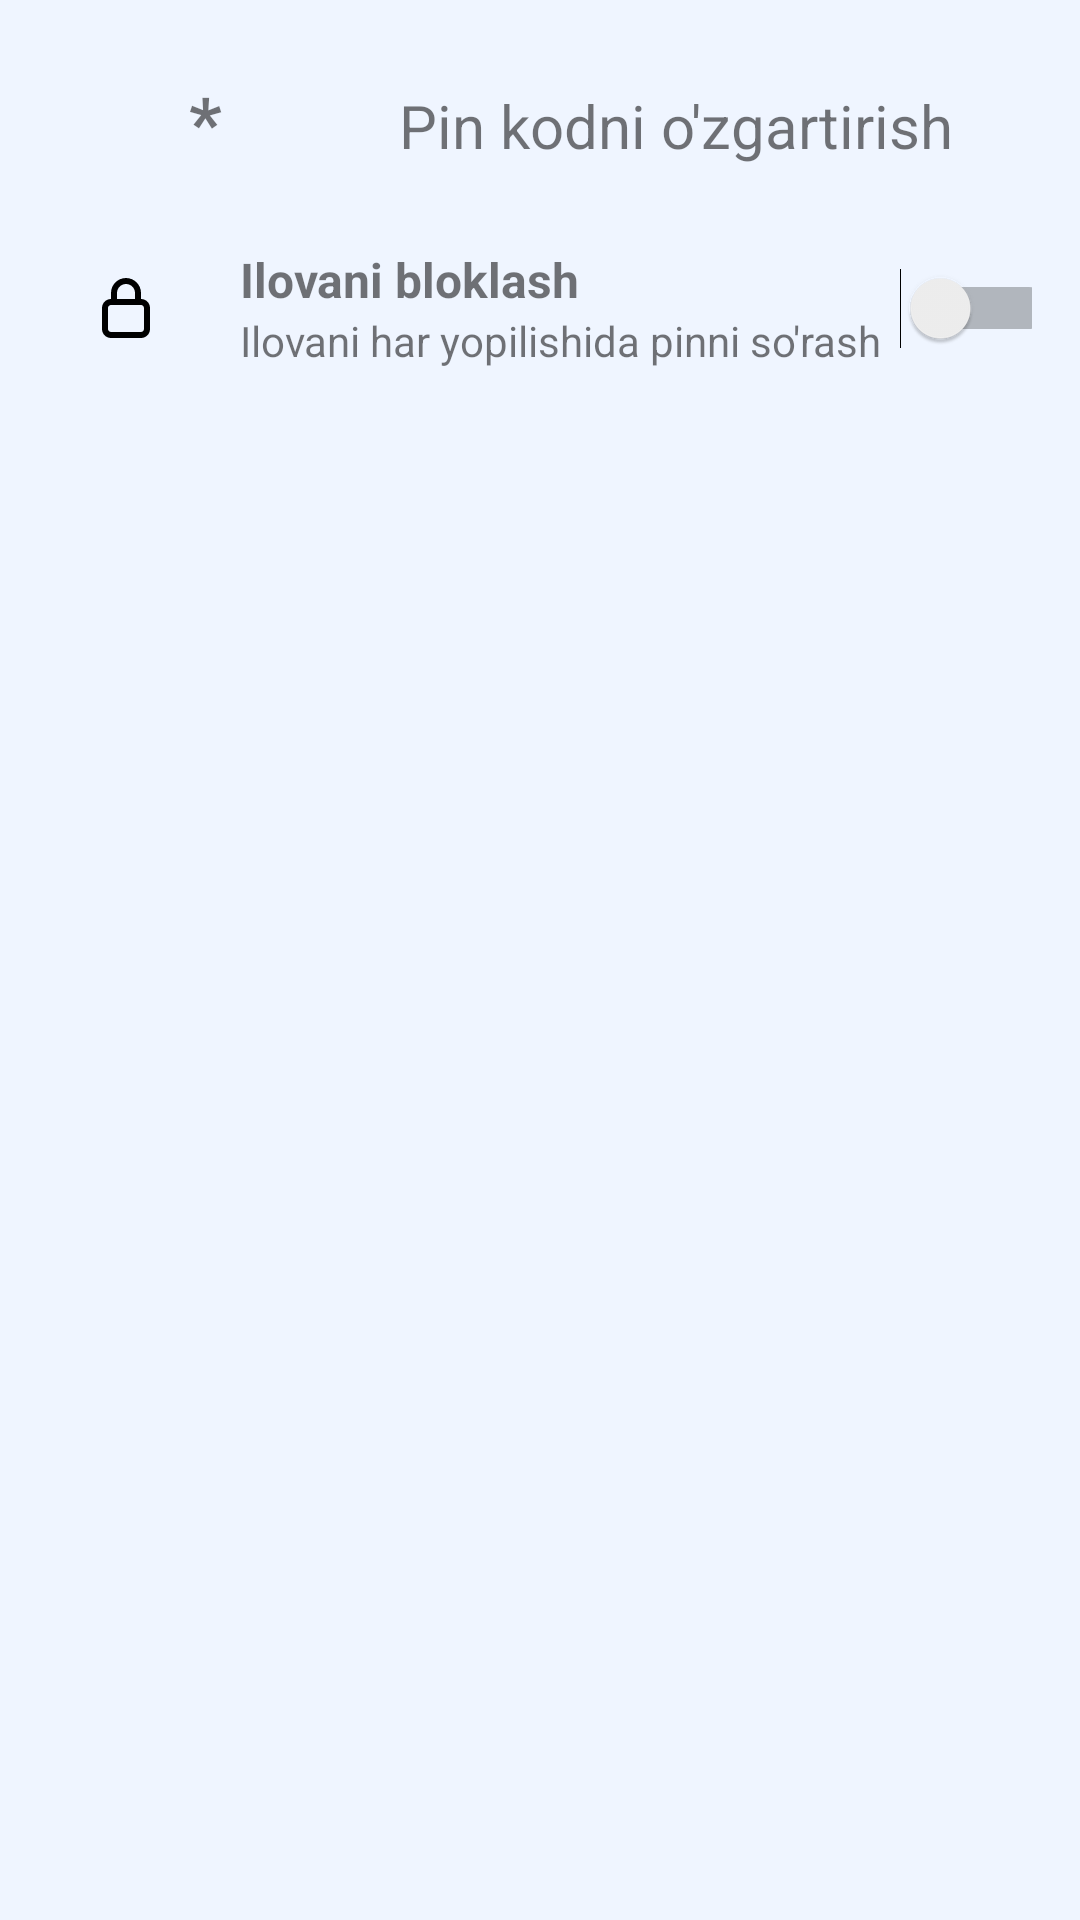

Named icons in this screenshot (1080 × 1920) and their bounding boxes, (x1, y1, x2, y2):
qulf: (102, 278, 150, 338)
